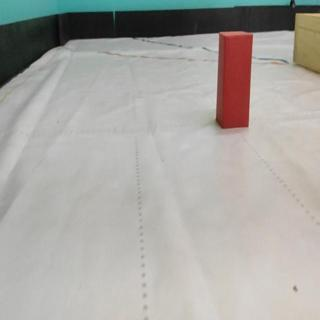redbox: (215, 30, 254, 129)
